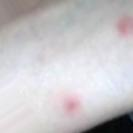Fleas: (60, 97, 80, 114), (117, 17, 132, 36)
